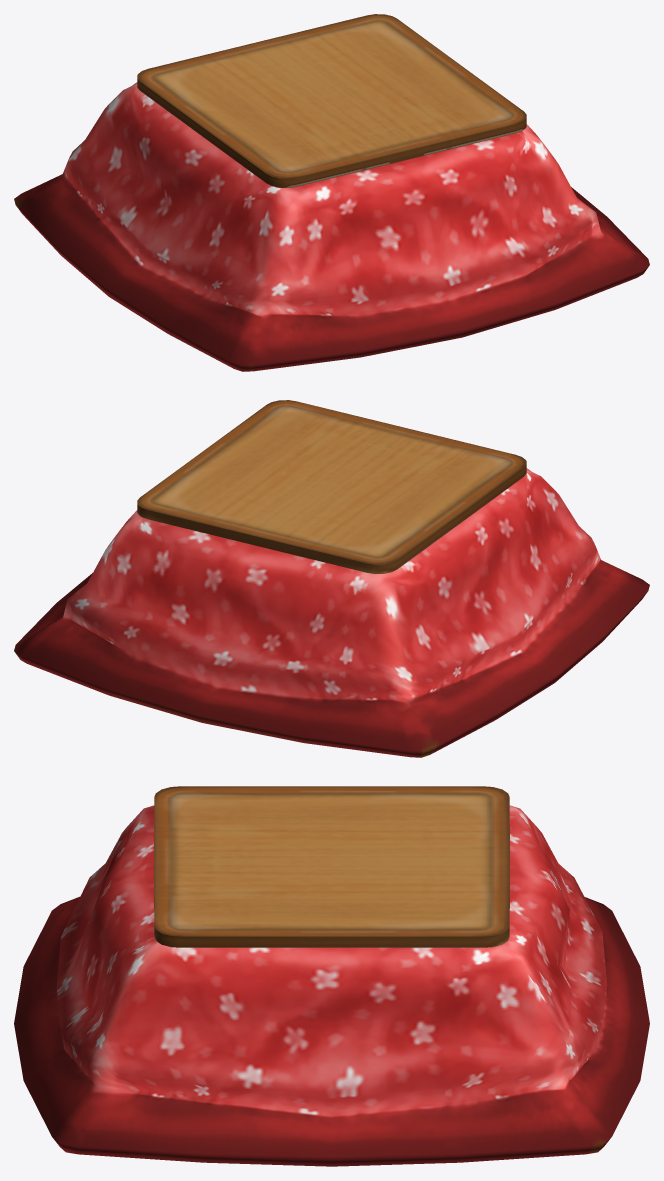
The model's file is JapaneseKotatsu_HD.fbx.
3 renders of one model, top to bottom at view 1: azimuth 30°, elevation 25°; view 2: azimuth 150°, elevation 25°; view 3: azimuth 270°, elevation 25°, orthographic. The views are drawn at different scales.
Visible parts, largest first — view 1: JapaneseKotatsu; view 2: JapaneseKotatsu; view 3: JapaneseKotatsu.
Part boxes in pixels (left/top/right/bottom): JapaneseKotatsu: left=14, top=14, right=649, bottom=371; JapaneseKotatsu: left=14, top=400, right=649, bottom=757; JapaneseKotatsu: left=14, top=786, right=649, bottom=1166.
Size of the model in its own units: 1.92 by 0.5915 by 1.95.
